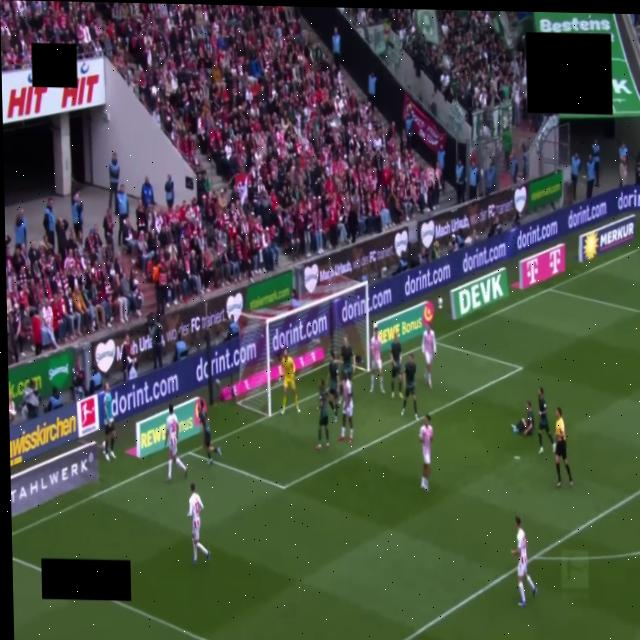player: (511, 516, 536, 606), (188, 484, 210, 564), (165, 404, 186, 482), (198, 398, 221, 463), (280, 348, 300, 413), (419, 414, 435, 492), (401, 354, 418, 420), (538, 388, 555, 452), (339, 374, 353, 443), (370, 328, 384, 392), (422, 325, 436, 388), (317, 379, 329, 449), (390, 333, 402, 398), (511, 402, 534, 435), (328, 351, 338, 422), (341, 337, 354, 383)
referee: (555, 407, 572, 487)
